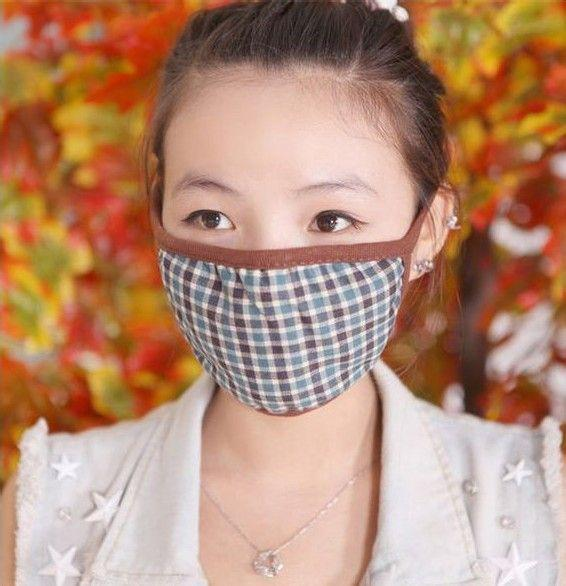OK: (156, 166, 397, 407)
